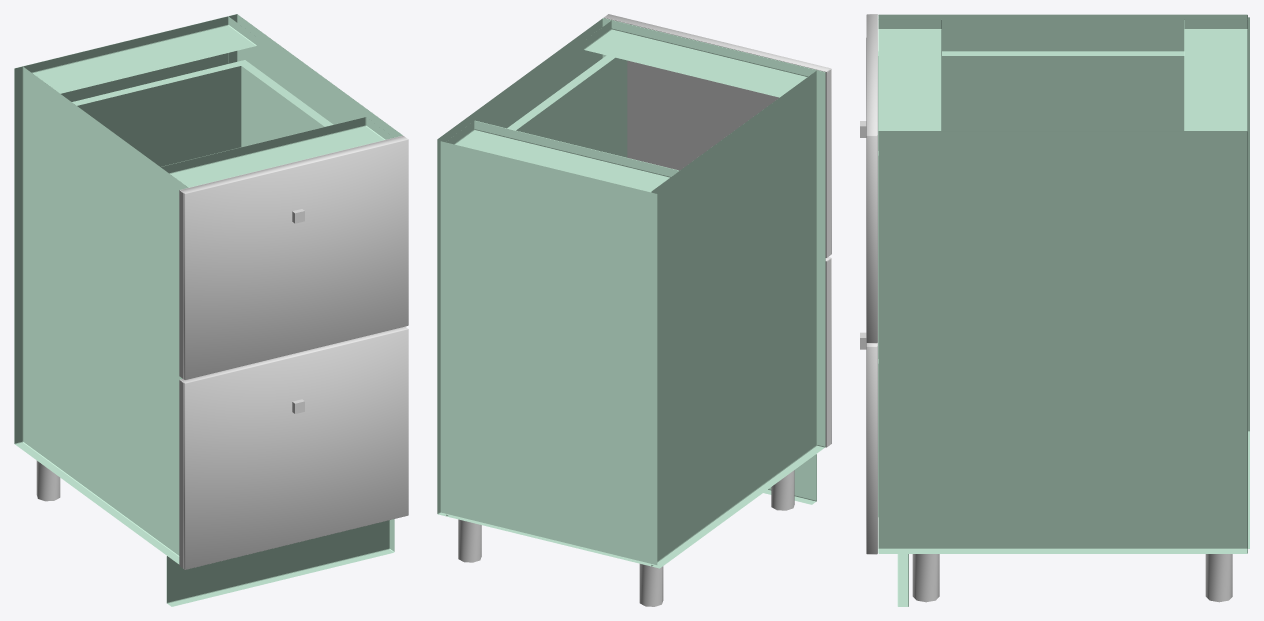
Rendered from M_2YNSD_4.glb.
3 renders of one model, left to right at view 1: azimuth 30°, elevation 25°; view 2: azimuth 150°, elevation 25°; view 3: azimuth 270°, elevation 25°, orthographic. The views are drawn at different scales.
Visible parts, largest first — view 1: M_2YNSD_4, M_2YNSD_1_F.004, M_2YNSD_1_F.005, M_2YNSD_4_F_4, M_2YNSD_1_F_C.005, M_2YNSD_1_F_C.004, Legs.007; view 2: M_2YNSD_4, M_2YNSD_1_F_A.004, M_2YNSD_4_F_4, Legs.007, M_2YNSD_1_F_B.004, M_2YNSD_1_F.004, M_2YNSD_1_F_C.005, M_2YNSD_1_F_C.004; view 3: M_2YNSD_4, M_2YNSD_4_F_4, M_2YNSD_1_F.004, Legs.007, M_2YNSD_1_F.005.
Boxes of the visible parts, left/top/right/bottom form: M_2YNSD_4: left=14, top=14, right=402, bottom=606; M_2YNSD_1_F.004: left=181, top=136, right=408, bottom=379; M_2YNSD_1_F.005: left=181, top=326, right=408, bottom=569; M_2YNSD_4_F_4: left=72, top=60, right=332, bottom=166; M_2YNSD_1_F_C.005: left=179, top=380, right=183, bottom=568; M_2YNSD_1_F_C.004: left=179, top=191, right=183, bottom=378; Legs.007: left=36, top=460, right=60, bottom=501; M_2YNSD_4: left=437, top=18, right=825, bottom=568; M_2YNSD_1_F_A.004: left=604, top=17, right=829, bottom=170; M_2YNSD_4_F_4: left=507, top=55, right=627, bottom=157; Legs.007: left=458, top=470, right=794, bottom=606; M_2YNSD_1_F_B.004: left=716, top=45, right=830, bottom=257; M_2YNSD_1_F.004: left=603, top=14, right=831, bottom=257; M_2YNSD_1_F_C.005: left=827, top=259, right=830, bottom=446; M_2YNSD_1_F_C.004: left=827, top=70, right=830, bottom=257; M_2YNSD_4: left=878, top=14, right=1249, bottom=606; M_2YNSD_4_F_4: left=878, top=51, right=1184, bottom=516; M_2YNSD_1_F.004: left=866, top=14, right=877, bottom=343; Legs.007: left=912, top=554, right=1232, bottom=602; M_2YNSD_1_F.005: left=866, top=343, right=877, bottom=554.
Size of the model in its own units: 4.76 by 8.6 by 6.44.
